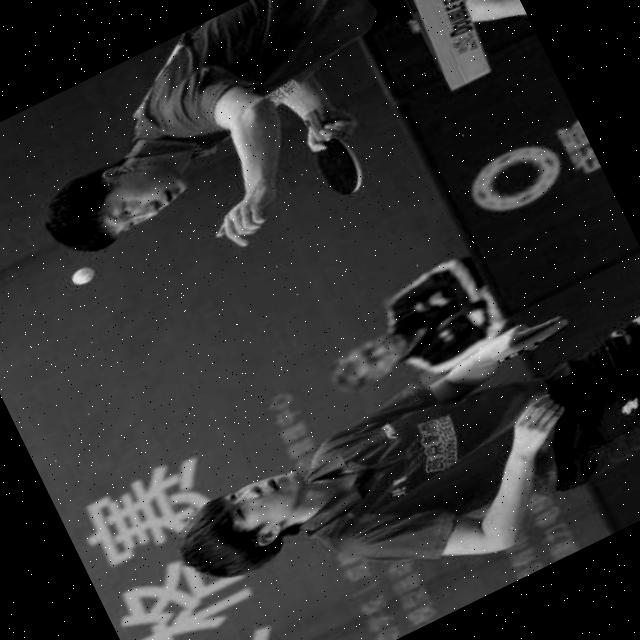ping-pong-ball: (60, 260, 99, 293)
